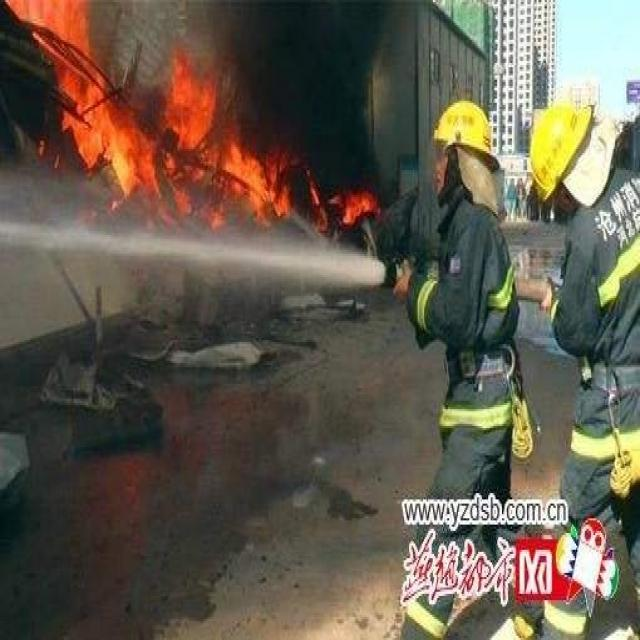fire: (8, 0, 382, 233)
